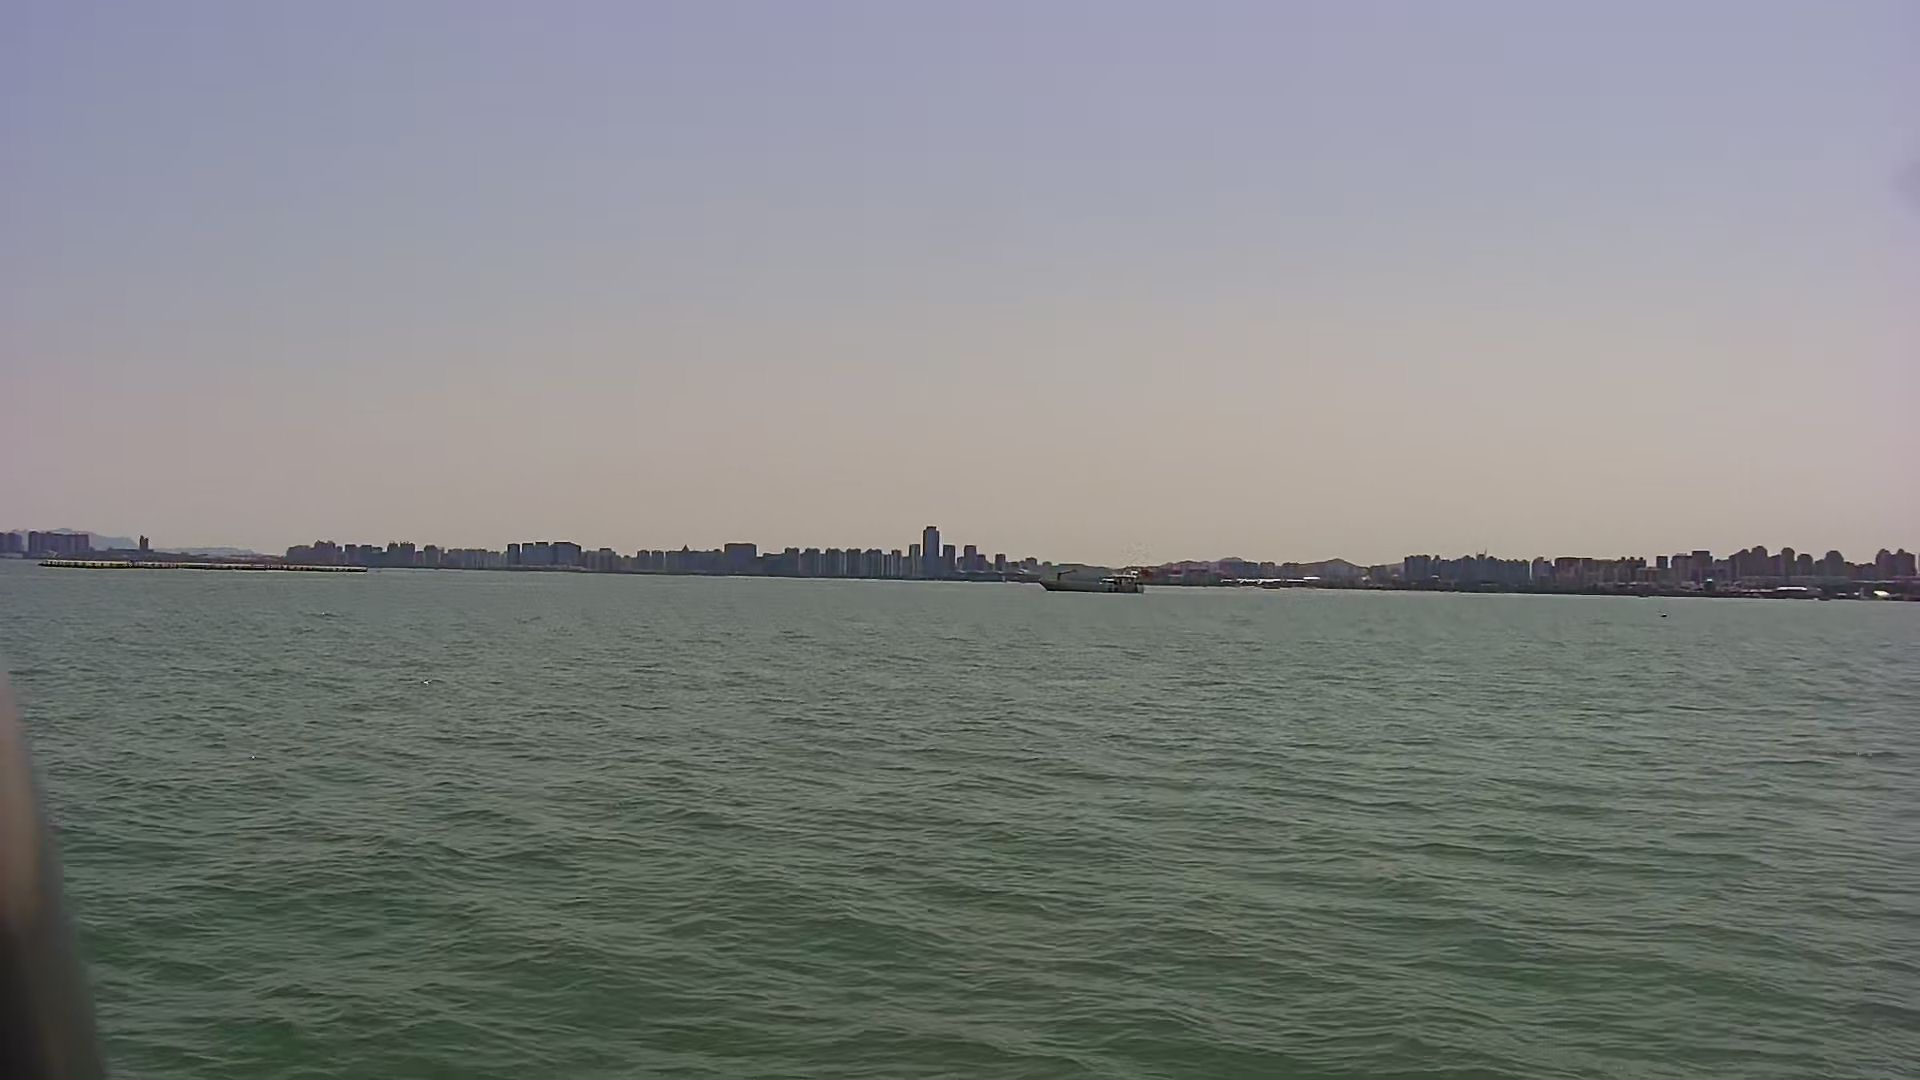ship: (1031, 562, 1150, 601)
